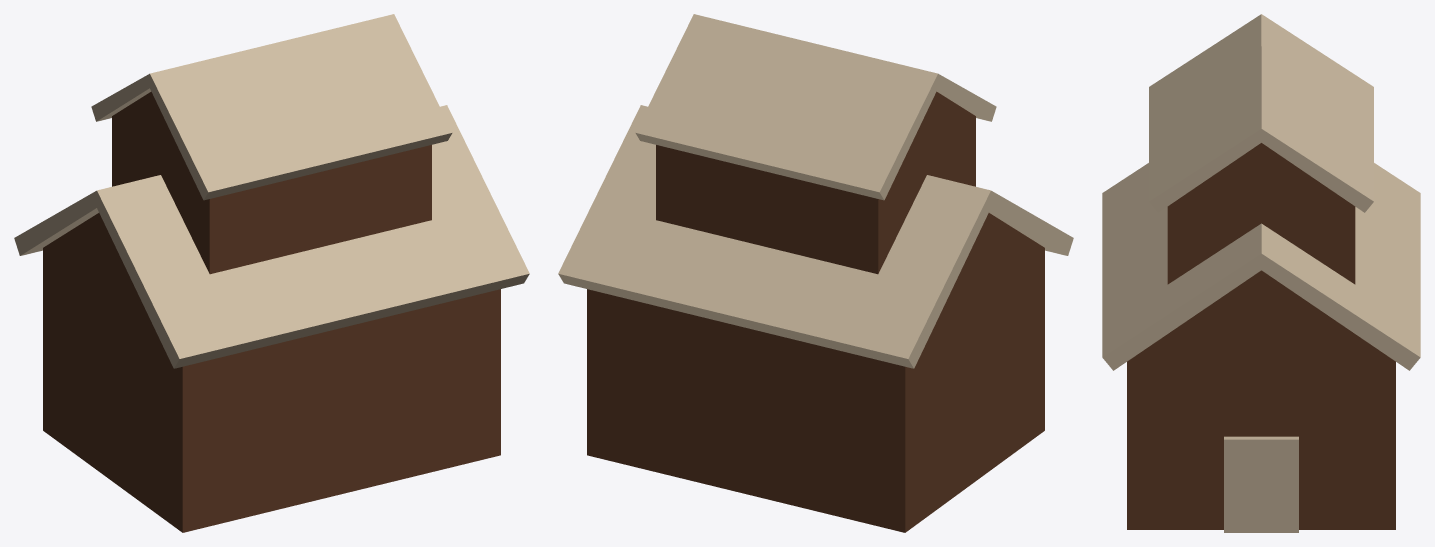
File: 690 School.fbx
3 renders of one model, left to right at view 1: azimuth 30°, elevation 25°; view 2: azimuth 150°, elevation 25°; view 3: azimuth 270°, elevation 25°, orthographic. The views are drawn at different scales.
Visible parts, largest first — view 1: school; view 2: school; view 3: school.
Boxes of the visible parts, x1,y1,x2,y2 form: school: (14,14,529,532); school: (558,14,1073,532); school: (1102,14,1420,532).
Bounding box in the file's own units: 289 × 315 × 236.
